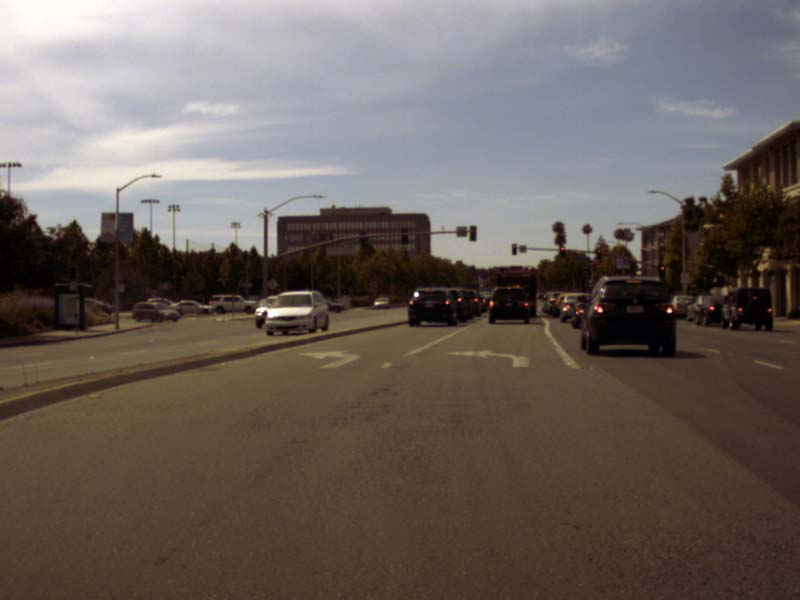Red: (660, 265, 664, 276), (512, 244, 516, 254), (596, 248, 600, 258), (560, 247, 564, 256)
